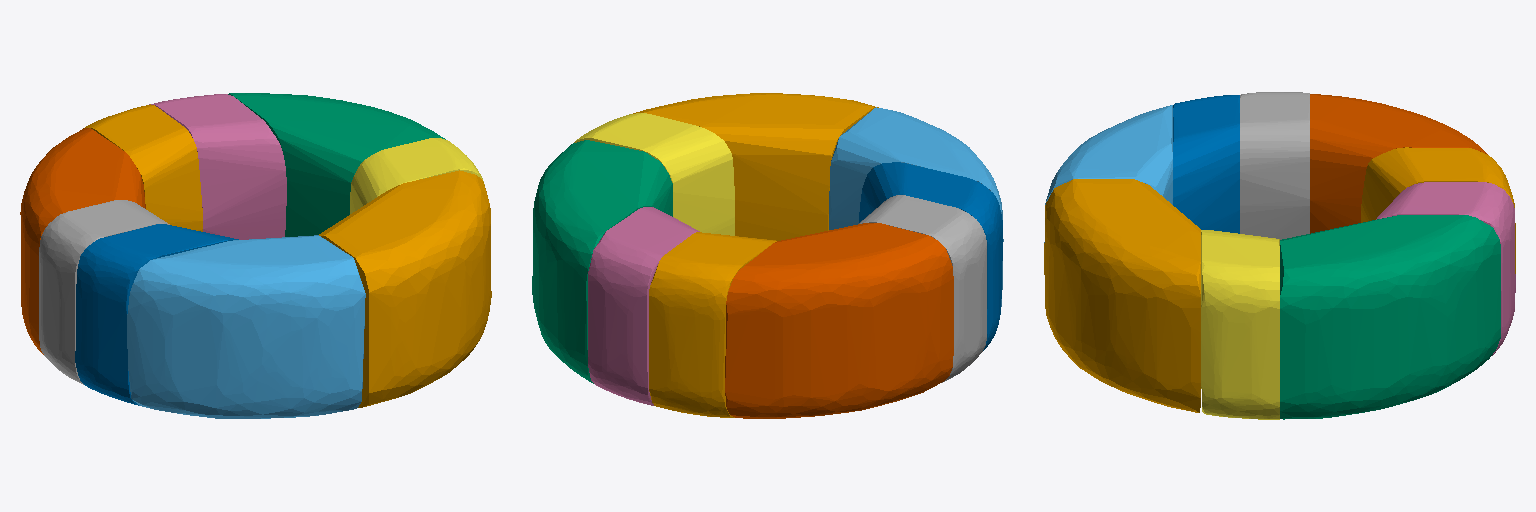
URDF robot description (root):
<robot name="root">
  <link name="link_convex_piece_004.obj">
    <inertial>
      <origin xyz="0 0 0" rpy="0 0 0"/>
    </inertial>
    <visual>
      <origin xyz="0 0 0" rpy="0 0 0"/>
      <geometry>
        <mesh filename="meshes/convex_piece_004.obj" scale="1.0 1.0 1.0"/>
      </geometry>
    </visual>
    <collision>
      <origin xyz="0 0 0" rpy="0 0 0"/>
      <geometry>
        <mesh filename="meshes/convex_piece_004.obj" scale="1.0 1.0 1.0"/>
      </geometry>
    </collision>
  </link>
  <link name="link_convex_piece_001.obj">
    <inertial>
      <origin xyz="0 0 0" rpy="0 0 0"/>
    </inertial>
    <visual>
      <origin xyz="0 0 0" rpy="0 0 0"/>
      <geometry>
        <mesh filename="meshes/convex_piece_001.obj" scale="1.0 1.0 1.0"/>
      </geometry>
    </visual>
    <collision>
      <origin xyz="0 0 0" rpy="0 0 0"/>
      <geometry>
        <mesh filename="meshes/convex_piece_001.obj" scale="1.0 1.0 1.0"/>
      </geometry>
    </collision>
  </link>
  <joint name="link_convex_piece_001.obj_joint" type="fixed">
    <origin xyz="0 0 0" rpy="0 0 0"/>
    <parent link="link_convex_piece_004.obj"/>
    <child link="link_convex_piece_001.obj"/>
  </joint>
  <link name="link_convex_piece_005.obj">
    <inertial>
      <origin xyz="0 0 0" rpy="0 0 0"/>
    </inertial>
    <visual>
      <origin xyz="0 0 0" rpy="0 0 0"/>
      <geometry>
        <mesh filename="meshes/convex_piece_005.obj" scale="1.0 1.0 1.0"/>
      </geometry>
    </visual>
    <collision>
      <origin xyz="0 0 0" rpy="0 0 0"/>
      <geometry>
        <mesh filename="meshes/convex_piece_005.obj" scale="1.0 1.0 1.0"/>
      </geometry>
    </collision>
  </link>
  <joint name="link_convex_piece_005.obj_joint" type="fixed">
    <origin xyz="0 0 0" rpy="0 0 0"/>
    <parent link="link_convex_piece_001.obj"/>
    <child link="link_convex_piece_005.obj"/>
  </joint>
  <link name="link_convex_piece_002.obj">
    <inertial>
      <origin xyz="0 0 0" rpy="0 0 0"/>
    </inertial>
    <visual>
      <origin xyz="0 0 0" rpy="0 0 0"/>
      <geometry>
        <mesh filename="meshes/convex_piece_002.obj" scale="1.0 1.0 1.0"/>
      </geometry>
    </visual>
    <collision>
      <origin xyz="0 0 0" rpy="0 0 0"/>
      <geometry>
        <mesh filename="meshes/convex_piece_002.obj" scale="1.0 1.0 1.0"/>
      </geometry>
    </collision>
  </link>
  <joint name="link_convex_piece_002.obj_joint" type="fixed">
    <origin xyz="0 0 0" rpy="0 0 0"/>
    <parent link="link_convex_piece_005.obj"/>
    <child link="link_convex_piece_002.obj"/>
  </joint>
  <link name="link_convex_piece_006.obj">
    <inertial>
      <origin xyz="0 0 0" rpy="0 0 0"/>
    </inertial>
    <visual>
      <origin xyz="0 0 0" rpy="0 0 0"/>
      <geometry>
        <mesh filename="meshes/convex_piece_006.obj" scale="1.0 1.0 1.0"/>
      </geometry>
    </visual>
    <collision>
      <origin xyz="0 0 0" rpy="0 0 0"/>
      <geometry>
        <mesh filename="meshes/convex_piece_006.obj" scale="1.0 1.0 1.0"/>
      </geometry>
    </collision>
  </link>
  <joint name="link_convex_piece_006.obj_joint" type="fixed">
    <origin xyz="0 0 0" rpy="0 0 0"/>
    <parent link="link_convex_piece_002.obj"/>
    <child link="link_convex_piece_006.obj"/>
  </joint>
  <link name="link_convex_piece_003.obj">
    <inertial>
      <origin xyz="0 0 0" rpy="0 0 0"/>
    </inertial>
    <visual>
      <origin xyz="0 0 0" rpy="0 0 0"/>
      <geometry>
        <mesh filename="meshes/convex_piece_003.obj" scale="1.0 1.0 1.0"/>
      </geometry>
    </visual>
    <collision>
      <origin xyz="0 0 0" rpy="0 0 0"/>
      <geometry>
        <mesh filename="meshes/convex_piece_003.obj" scale="1.0 1.0 1.0"/>
      </geometry>
    </collision>
  </link>
  <joint name="link_convex_piece_003.obj_joint" type="fixed">
    <origin xyz="0 0 0" rpy="0 0 0"/>
    <parent link="link_convex_piece_006.obj"/>
    <child link="link_convex_piece_003.obj"/>
  </joint>
  <link name="link_convex_piece_008.obj">
    <inertial>
      <origin xyz="0 0 0" rpy="0 0 0"/>
    </inertial>
    <visual>
      <origin xyz="0 0 0" rpy="0 0 0"/>
      <geometry>
        <mesh filename="meshes/convex_piece_008.obj" scale="1.0 1.0 1.0"/>
      </geometry>
    </visual>
    <collision>
      <origin xyz="0 0 0" rpy="0 0 0"/>
      <geometry>
        <mesh filename="meshes/convex_piece_008.obj" scale="1.0 1.0 1.0"/>
      </geometry>
    </collision>
  </link>
  <joint name="link_convex_piece_008.obj_joint" type="fixed">
    <origin xyz="0 0 0" rpy="0 0 0"/>
    <parent link="link_convex_piece_003.obj"/>
    <child link="link_convex_piece_008.obj"/>
  </joint>
  <link name="link_convex_piece_000.obj">
    <inertial>
      <origin xyz="0 0 0" rpy="0 0 0"/>
    </inertial>
    <visual>
      <origin xyz="0 0 0" rpy="0 0 0"/>
      <geometry>
        <mesh filename="meshes/convex_piece_000.obj" scale="1.0 1.0 1.0"/>
      </geometry>
    </visual>
    <collision>
      <origin xyz="0 0 0" rpy="0 0 0"/>
      <geometry>
        <mesh filename="meshes/convex_piece_000.obj" scale="1.0 1.0 1.0"/>
      </geometry>
    </collision>
  </link>
  <joint name="link_convex_piece_000.obj_joint" type="fixed">
    <origin xyz="0 0 0" rpy="0 0 0"/>
    <parent link="link_convex_piece_008.obj"/>
    <child link="link_convex_piece_000.obj"/>
  </joint>
  <link name="link_convex_piece_007.obj">
    <inertial>
      <origin xyz="0 0 0" rpy="0 0 0"/>
    </inertial>
    <visual>
      <origin xyz="0 0 0" rpy="0 0 0"/>
      <geometry>
        <mesh filename="meshes/convex_piece_007.obj" scale="1.0 1.0 1.0"/>
      </geometry>
    </visual>
    <collision>
      <origin xyz="0 0 0" rpy="0 0 0"/>
      <geometry>
        <mesh filename="meshes/convex_piece_007.obj" scale="1.0 1.0 1.0"/>
      </geometry>
    </collision>
  </link>
  <joint name="link_convex_piece_007.obj_joint" type="fixed">
    <origin xyz="0 0 0" rpy="0 0 0"/>
    <parent link="link_convex_piece_000.obj"/>
    <child link="link_convex_piece_007.obj"/>
  </joint>
</robot>

--- What the picture shows (computed from the rendered views, not written in the file) ---
Views: 3 orthographic renders of the robot side by side, from view 1: azimuth 30°, elevation 25°; view 2: azimuth 150°, elevation 25°; view 3: azimuth 270°, elevation 25°.
Robot: root — 9 links, 8 joints (8 fixed); root link link_convex_piece_004.obj; default pose: every joint at zero.
Visible links, largest first — view 1: link_convex_piece_001.obj, link_convex_piece_004.obj, link_convex_piece_005.obj, link_convex_piece_008.obj, link_convex_piece_006.obj, link_convex_piece_003.obj, link_convex_piece_000.obj, link_convex_piece_007.obj, link_convex_piece_002.obj; view 2: link_convex_piece_003.obj, link_convex_piece_004.obj, link_convex_piece_005.obj, link_convex_piece_007.obj, link_convex_piece_008.obj, link_convex_piece_002.obj, link_convex_piece_001.obj, link_convex_piece_000.obj, link_convex_piece_006.obj; view 3: link_convex_piece_005.obj, link_convex_piece_004.obj, link_convex_piece_002.obj, link_convex_piece_003.obj, link_convex_piece_000.obj, link_convex_piece_006.obj, link_convex_piece_001.obj, link_convex_piece_008.obj, link_convex_piece_007.obj.
Link boxes in pixels (bbox=[...]): link_convex_piece_001.obj: bbox=[127, 235, 365, 418]; link_convex_piece_004.obj: bbox=[319, 170, 491, 407]; link_convex_piece_005.obj: bbox=[228, 93, 445, 236]; link_convex_piece_008.obj: bbox=[149, 94, 286, 239]; link_convex_piece_006.obj: bbox=[75, 224, 238, 405]; link_convex_piece_003.obj: bbox=[20, 128, 145, 354]; link_convex_piece_000.obj: bbox=[39, 200, 169, 384]; link_convex_piece_007.obj: bbox=[83, 104, 202, 231]; link_convex_piece_002.obj: bbox=[350, 138, 484, 213]; link_convex_piece_003.obj: bbox=[725, 223, 953, 418]; link_convex_piece_004.obj: bbox=[633, 93, 878, 240]; link_convex_piece_005.obj: bbox=[532, 140, 672, 383]; link_convex_piece_007.obj: bbox=[649, 232, 776, 417]; link_convex_piece_008.obj: bbox=[588, 207, 699, 405]; link_convex_piece_002.obj: bbox=[574, 113, 734, 235]; link_convex_piece_001.obj: bbox=[829, 107, 1003, 306]; link_convex_piece_000.obj: bbox=[859, 195, 986, 382]; link_convex_piece_006.obj: bbox=[859, 162, 1002, 350]; link_convex_piece_005.obj: bbox=[1280, 215, 1500, 419]; link_convex_piece_004.obj: bbox=[1044, 179, 1200, 412]; link_convex_piece_002.obj: bbox=[1201, 230, 1279, 419]; link_convex_piece_003.obj: bbox=[1310, 94, 1487, 233]; link_convex_piece_000.obj: bbox=[1240, 92, 1309, 239]; link_convex_piece_006.obj: bbox=[1173, 95, 1239, 233]; link_convex_piece_001.obj: bbox=[1044, 105, 1172, 242]; link_convex_piece_008.obj: bbox=[1376, 182, 1515, 355]; link_convex_piece_007.obj: bbox=[1361, 147, 1515, 273].
Size in the robot's own frame: 1.39 by 1.39 by 0.4928 metres.
9 mesh visuals loaded from 9 distinct referenced files (9 OBJ).
